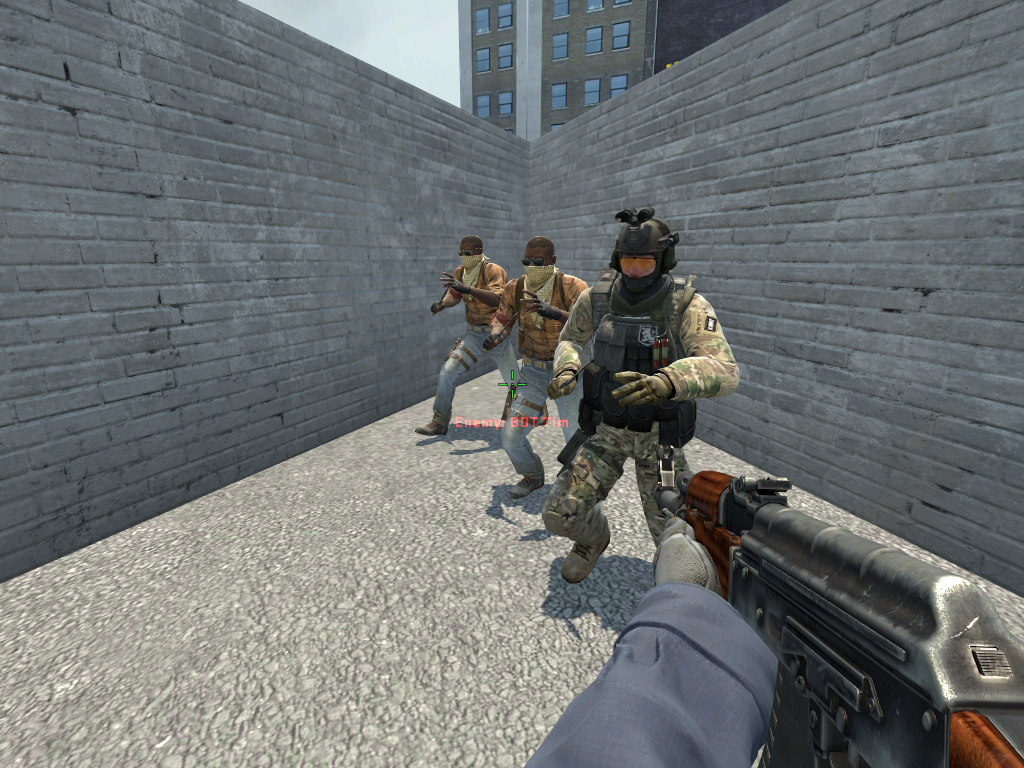ct head: (607, 204, 680, 298)
tr head: (518, 234, 563, 294), (454, 231, 488, 273)
